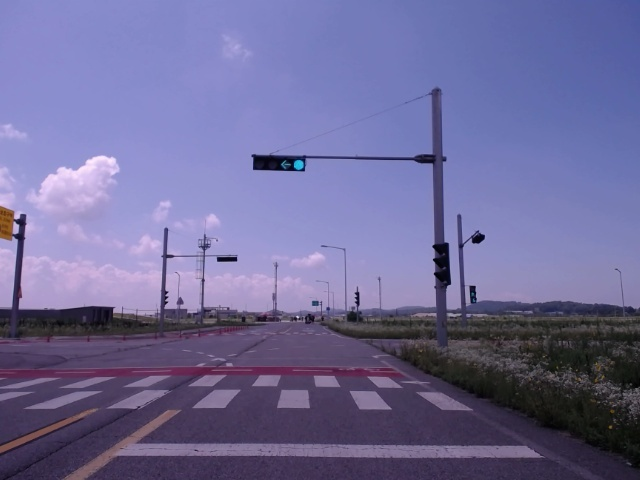all_green_4: (252, 156, 305, 173)
